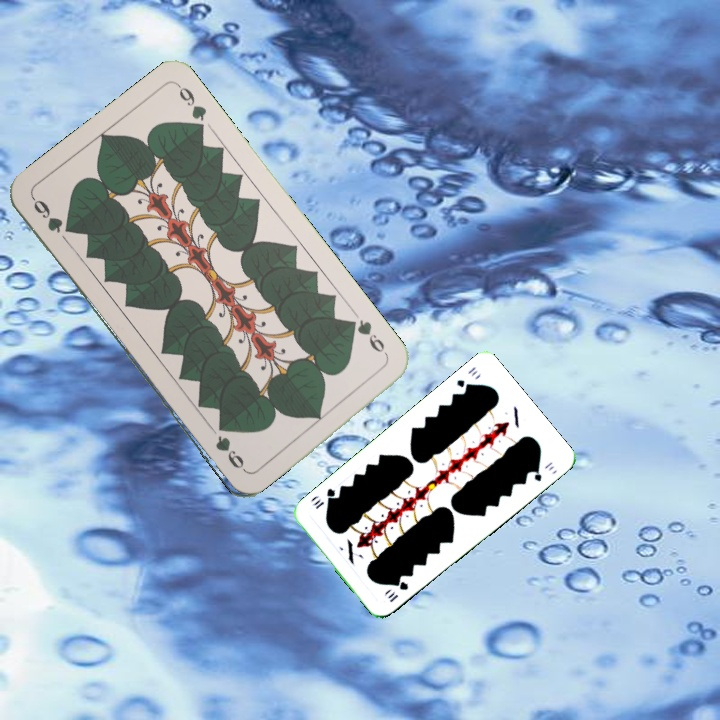G10: (452, 362, 480, 393), (384, 577, 411, 605)
G9: (344, 315, 392, 362), (28, 193, 66, 236)
